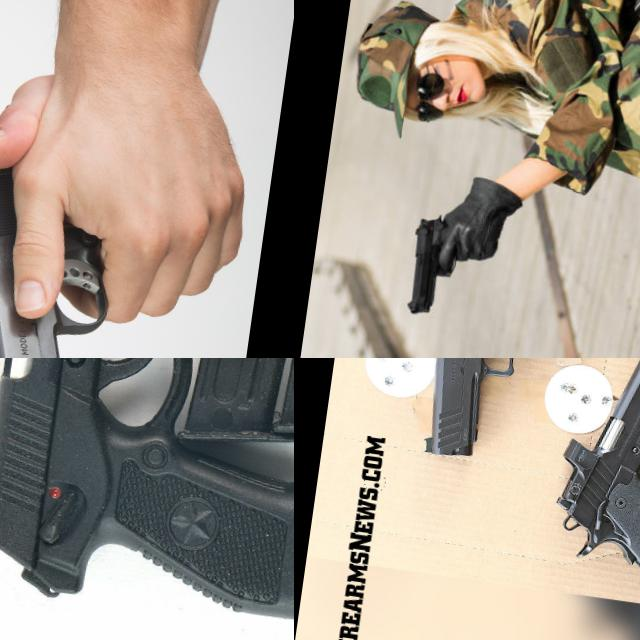handgun: (0, 358, 294, 640), (0, 124, 130, 358), (393, 358, 617, 488), (539, 358, 640, 611), (400, 208, 464, 319)
